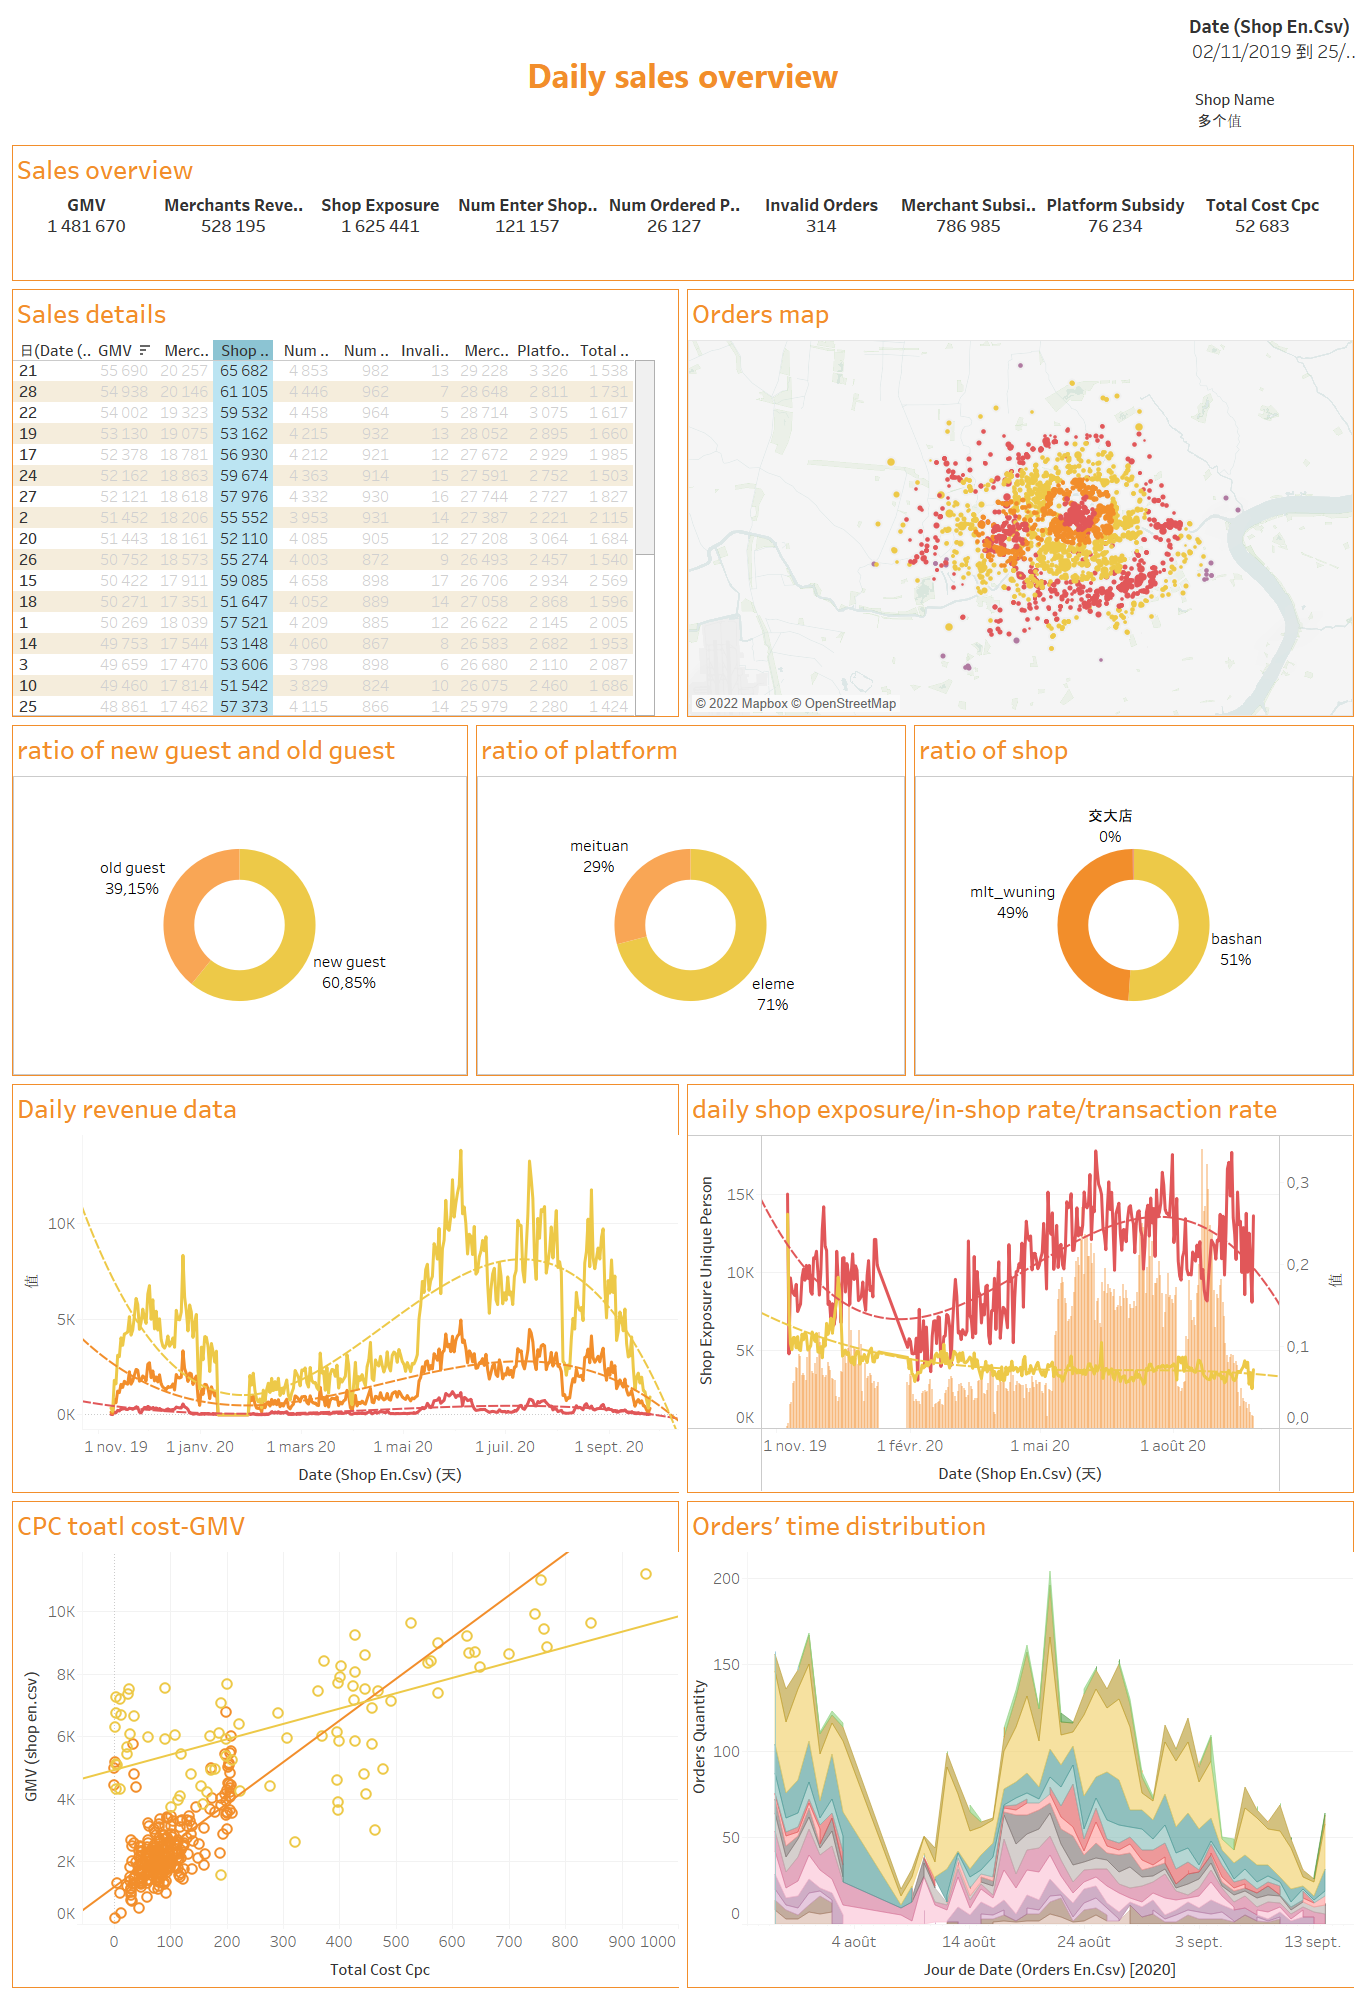

This screenshot's page, from the dashboard's own definition file:
{"tool":"tableau","page":{"name":"仪表板 1","canvas":[1366,2000],"ordinal":0},"visuals":[{"type":"text","box":[8,8,1350,132.7]},{"type":"filter","title":"Business situation overview","param":"[federated.168os950c7cwhi1fu0hux1sek0c6].[none:date (shop_en.csv):qk]","box":[1189,12,168,73]},{"type":"filter","title":"Business operation details","param":"[federated.168os950c7cwhi1fu0hux1sek0c6].[none:shop_name:nk]","box":[1195,88,160,53]},{"type":"worksheet","title":"Business situation overview","mark":"Automatic","box":[8,140.7,1350,144.3]},{"type":"worksheet","title":"Business operation details","mark":"Automatic","rows":["date (shop_en.csv)"],"box":[8,285,675,436.3]},{"type":"worksheet","title":"order map","mark":"Automatic","rows":["delivery coordinates_latitude"],"cols":["delivery coordinates_longitude"],"box":[683,285,675,436.3]},{"type":"worksheet","title":"ratio of new guest and old guest","mark":"Pie","rows":["Calculation_1190639161313828869","Calculation_1190639161313845255"],"box":[8,721.3,464,358.7]},{"type":"worksheet","title":"ratio of platform","mark":"Pie","rows":["Calculation_1190639161313828869","Calculation_1190639161313845255"],"box":[472,721.3,438,358.7]},{"type":"worksheet","title":"ratio of shop","mark":"Pie","rows":["Calculation_1190639161313828869","Calculation_1190639161313845255"],"box":[910,721.3,448,358.7]},{"type":"worksheet","title":"Daily revenue data","mark":"Automatic","cols":["Date (Shop En.Csv) (天)"],"box":[8,1080,675,416.9]},{"type":"worksheet","title":"daily traffic data","mark":"Automatic","rows":["shop_exposure_unique_person"],"cols":["Date (Shop En.Csv) (天)"],"box":[683,1080,675,416.9]},{"type":"worksheet","title":"Delivery status","mark":"Automatic","rows":["GMV (shop_en.csv)"],"cols":["total_cost_cpc"],"box":[8,1496.9,675,495.1]},{"type":"worksheet","title":"order distribution","mark":"Area","rows":["orders_quantity"],"cols":["date (orders_en.csv)"],"box":[683,1496.9,675,495.1]}]}

Visuals, with their boxes in screenshot pixels (x1, y1, x2, y2), scaled from the page's 1366x2000 canvas onto the 1366x2000 screenshot:
text: (8,8,1358,141)
"Business situation overview" filter: (1189,12,1357,85)
"Business operation details" filter: (1195,88,1355,141)
"Business situation overview" worksheet: (8,141,1358,285)
"Business operation details" worksheet: (8,285,683,721)
"order map" worksheet: (683,285,1358,721)
"ratio of new guest and old guest" worksheet (Pie marks): (8,721,472,1080)
"ratio of platform" worksheet (Pie marks): (472,721,910,1080)
"ratio of shop" worksheet (Pie marks): (910,721,1358,1080)
"Daily revenue data" worksheet: (8,1080,683,1497)
"daily traffic data" worksheet: (683,1080,1358,1497)
"Delivery status" worksheet: (8,1497,683,1992)
"order distribution" worksheet (Area marks): (683,1497,1358,1992)
